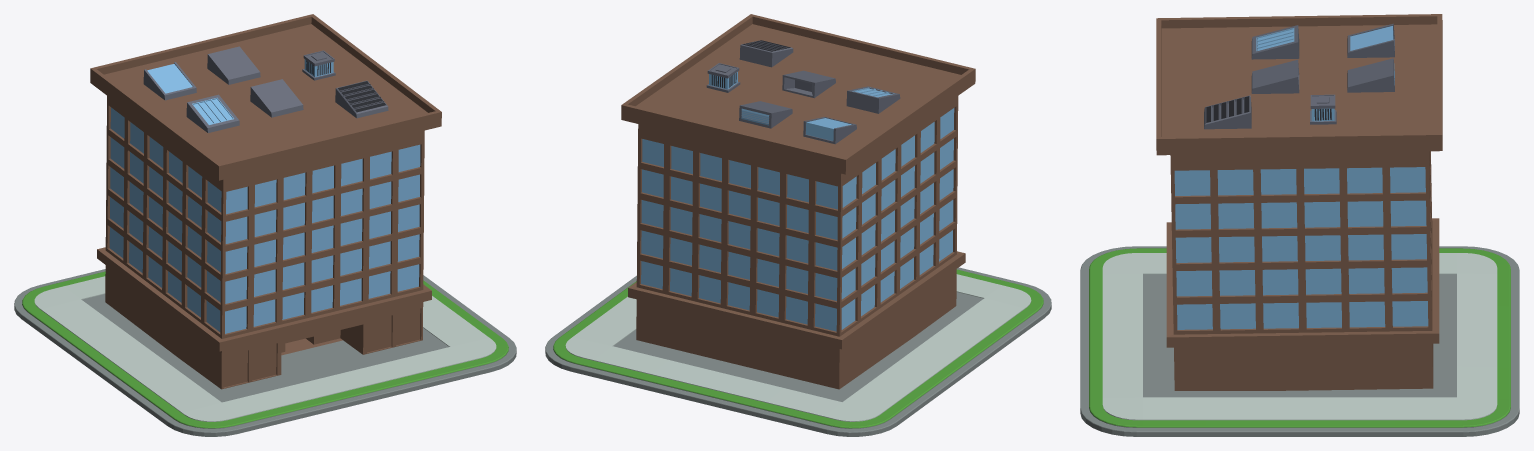
File: Office2.fbx
3 views of the same model, side by side, from view 1: azimuth 30°, elevation 25°; view 2: azimuth 150°, elevation 25°; view 3: azimuth 270°, elevation 25° (orthographic). The views are drawn at different scales.
Parts seen in each view (by area): view 1: office builiding, Office building; view 2: office builiding, Office building; view 3: office builiding, Office building.
Boxes of the visible parts, x1,y1,x2,y2 form: office builiding: (90,14,441,389); Office building: (14,269,516,436); office builiding: (621,14,975,389); Office building: (545,267,1051,436); office builiding: (1156,14,1442,390); Office building: (1080,246,1519,436).
Bounding box in the file's own units: 1376 × 964 × 1376.
